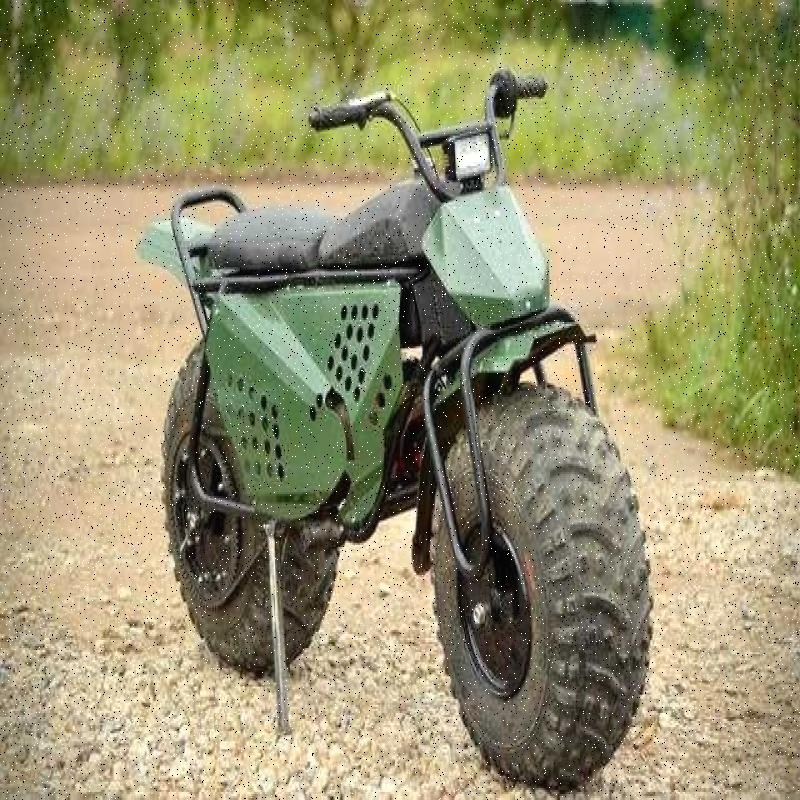bike: (157, 33, 675, 800)
